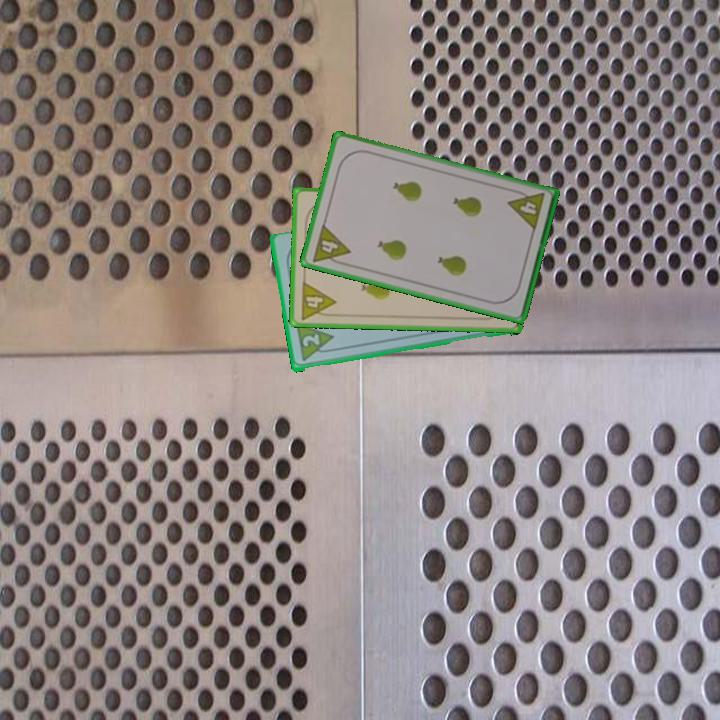2p: (298, 331, 322, 350)
4p: (308, 221, 353, 269), (505, 186, 547, 234), (297, 278, 338, 322)
